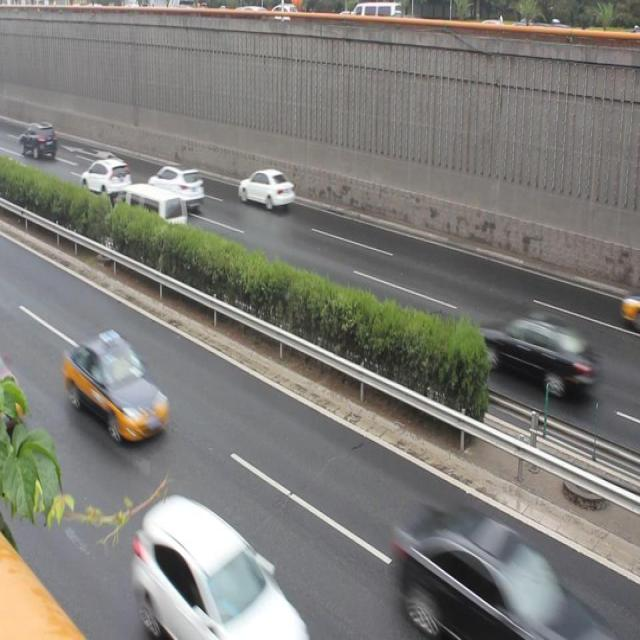car: (395, 503, 585, 640), (133, 498, 298, 640), (65, 323, 172, 438), (477, 308, 592, 392), (236, 160, 294, 212), (149, 159, 206, 206), (80, 155, 130, 198)
truck: (118, 181, 188, 236)
